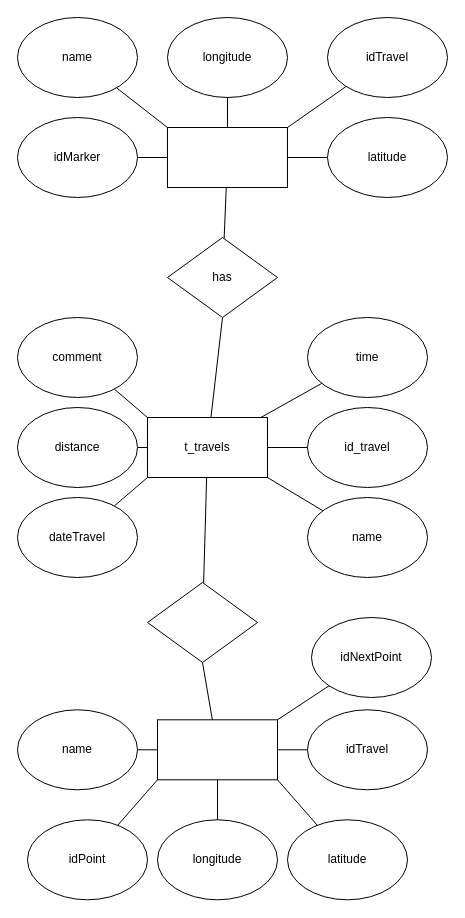
The diagram is 465 pixels wide and 918 high, and some of its shapes have lost their labels. Each missing label, with the box of its shape:
of: (146, 582, 258, 662)
t_markers: (166, 126, 288, 188)
t_points: (156, 719, 278, 780)
